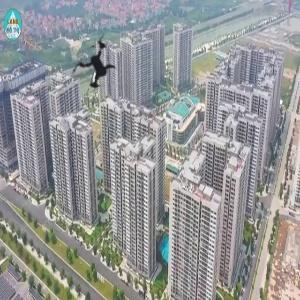drone: (50, 19, 143, 112)
